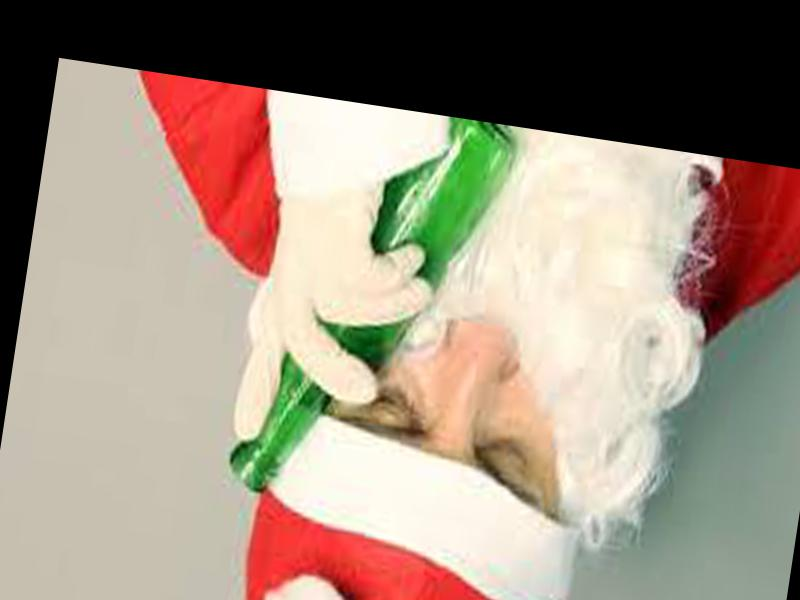Beer: (223, 90, 514, 517)
